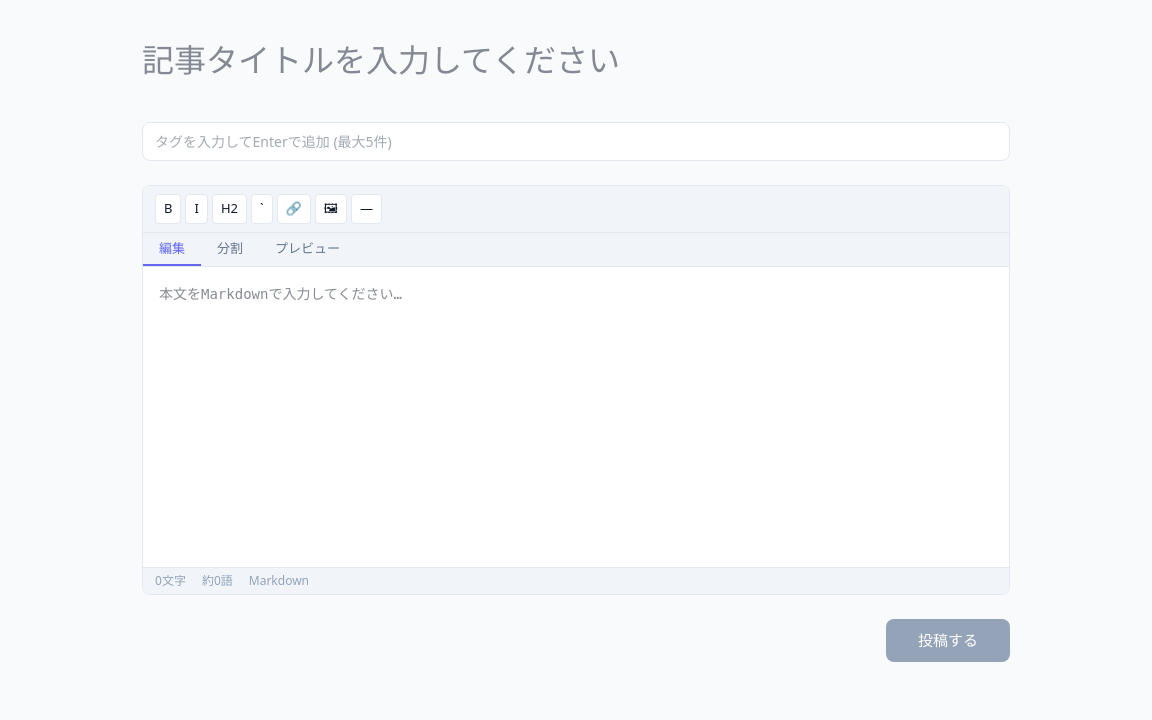
it: BlogCreatePage › Requirement 5.4 – バリデーション・エラー表示 › タイトルを入力すると投稿ボタンが enabled になる
This screenshot has width=1152, height=720.
Type "Hello" into the field with test id "title-input" at x=576, y=61, box [142, 32, 1010, 90]
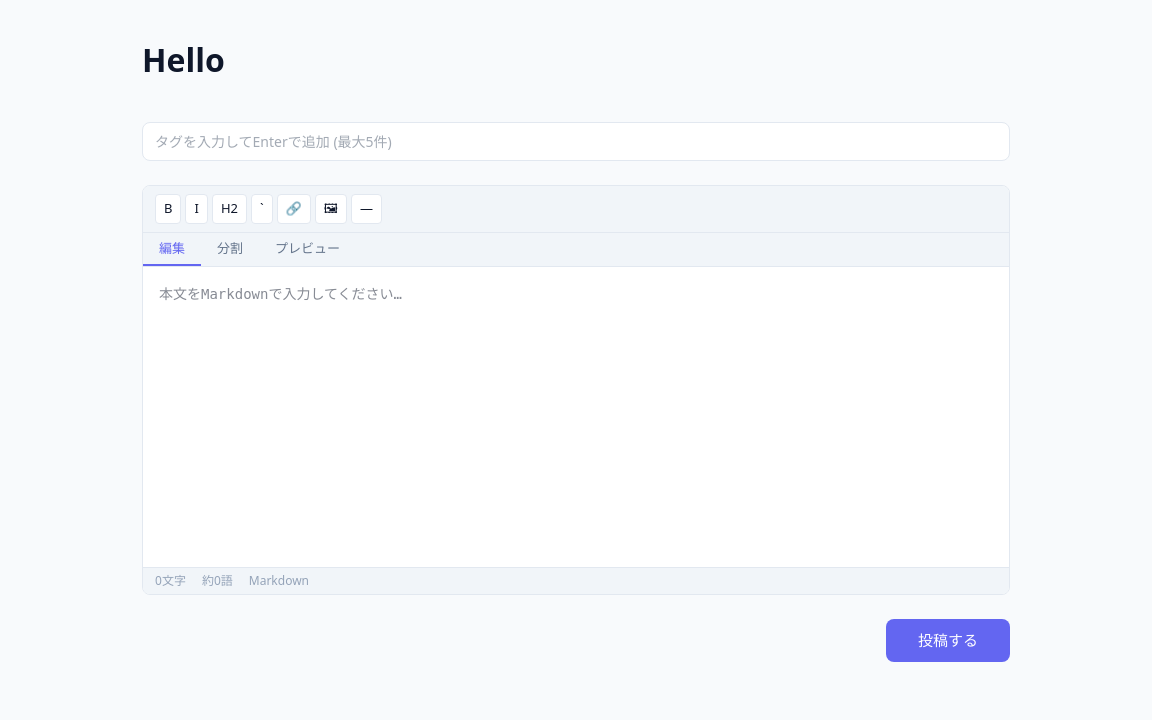
Now the button with test id "submit-button" is enabled, box [886, 619, 1010, 662]
